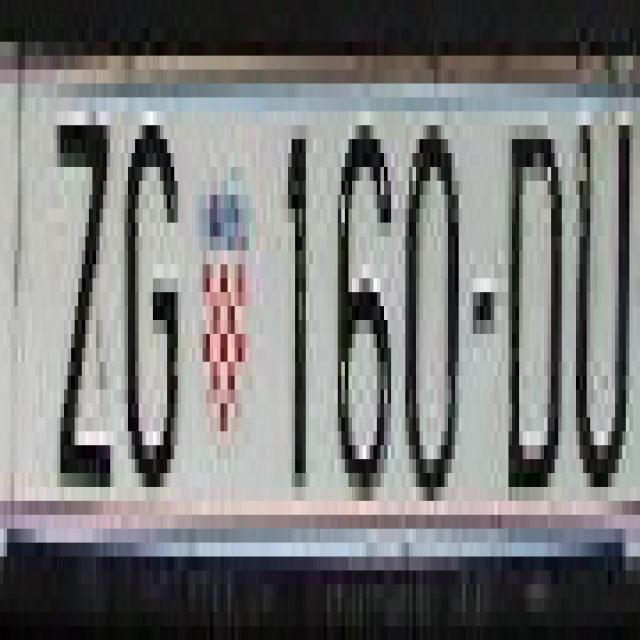0: (402, 56, 466, 487)
1: (266, 69, 324, 501)
6: (327, 70, 395, 514)
D: (505, 69, 572, 501)
G: (121, 83, 185, 487)
U: (569, 70, 633, 514)
Z: (46, 97, 118, 515)
